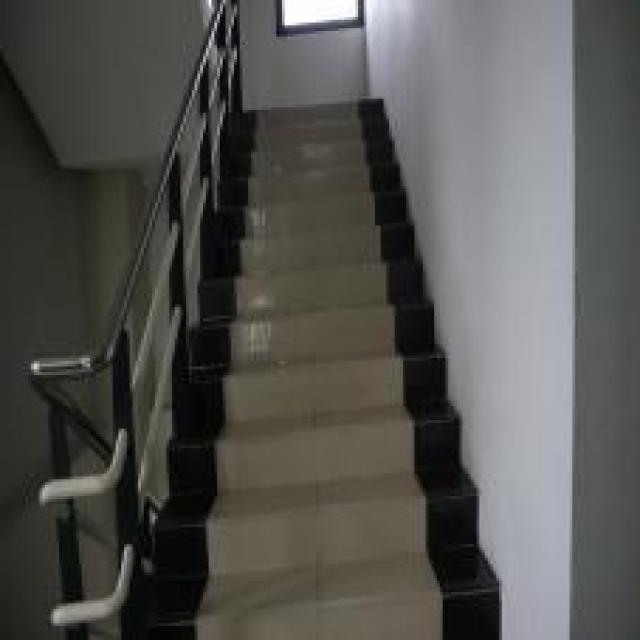upstair: (230, 97, 416, 638)
